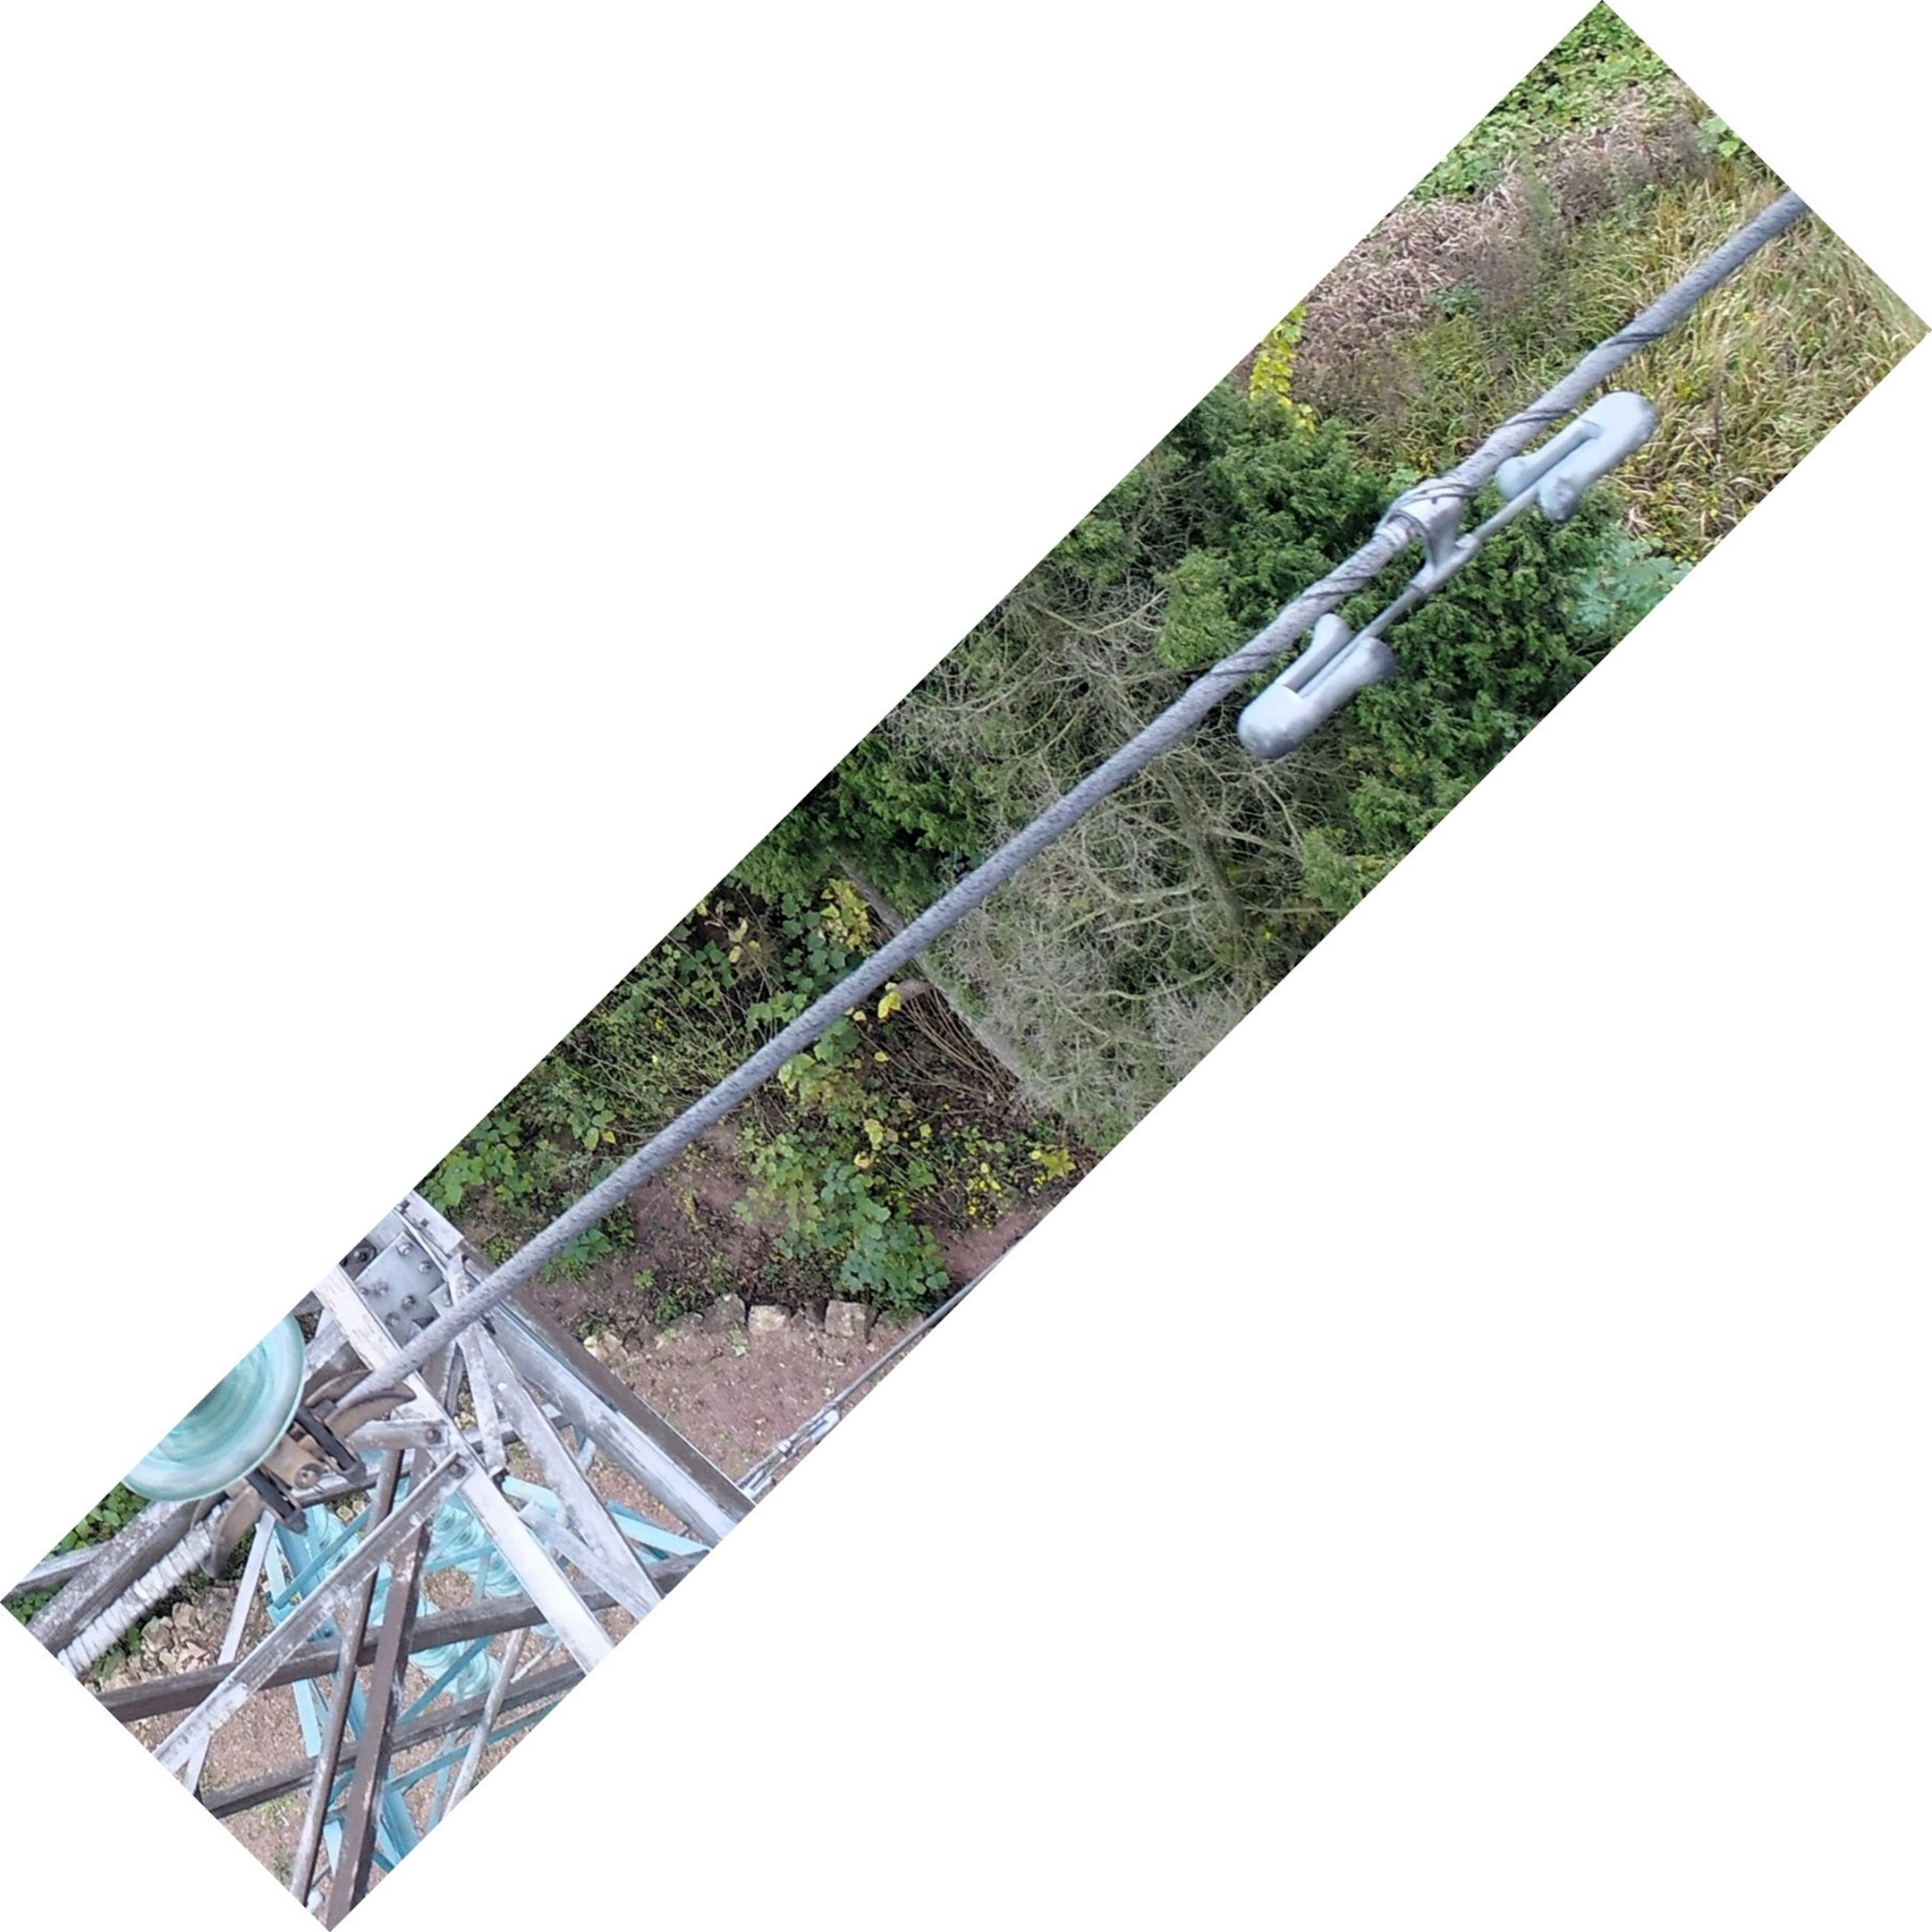Shockproof hammer: (1196, 368, 1672, 773)
